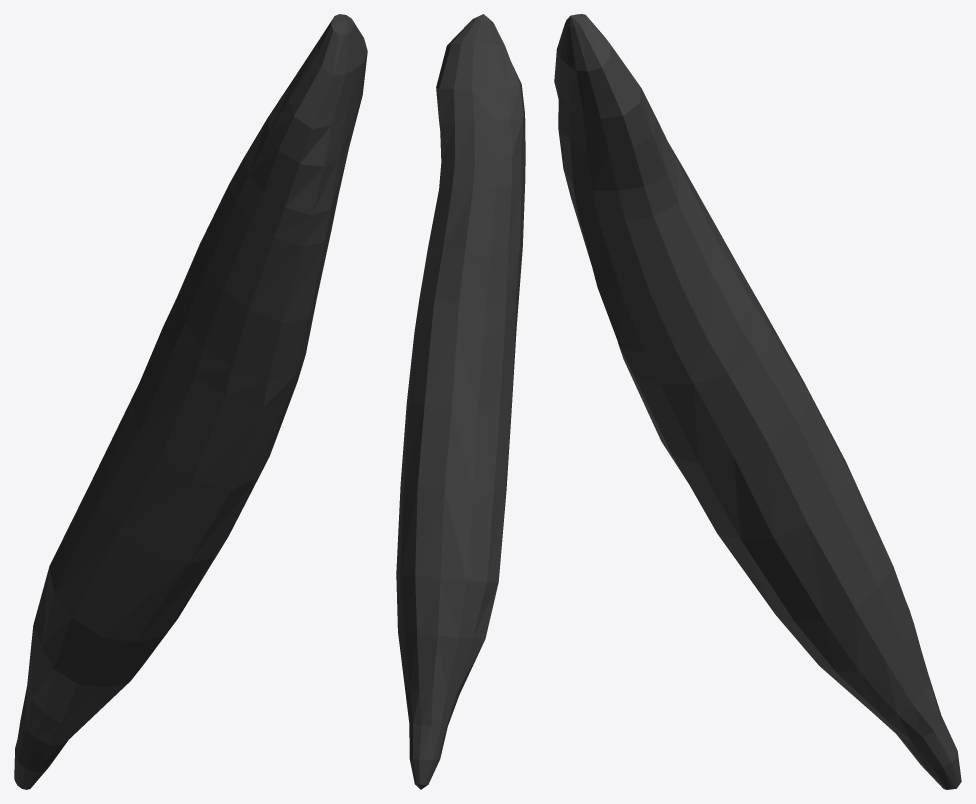
The model's file is PeroneusLongus.glb.
3 views of the same model, side by side, from view 1: azimuth 30°, elevation 25°; view 2: azimuth 150°, elevation 25°; view 3: azimuth 270°, elevation 25° (orthographic). The views are drawn at different scales.
Visible parts, largest first — view 1: PeroneusLongus; view 2: PeroneusLongus; view 3: PeroneusLongus.
Boxes of the visible parts, x1,y1,x2,y2 form: PeroneusLongus: (14, 14, 367, 789); PeroneusLongus: (396, 14, 525, 789); PeroneusLongus: (554, 14, 961, 789).
Bounding box in the file's own units: 0.6976 × 3.18 × 1.42.
Materials: 1 (1 with a texture image).
